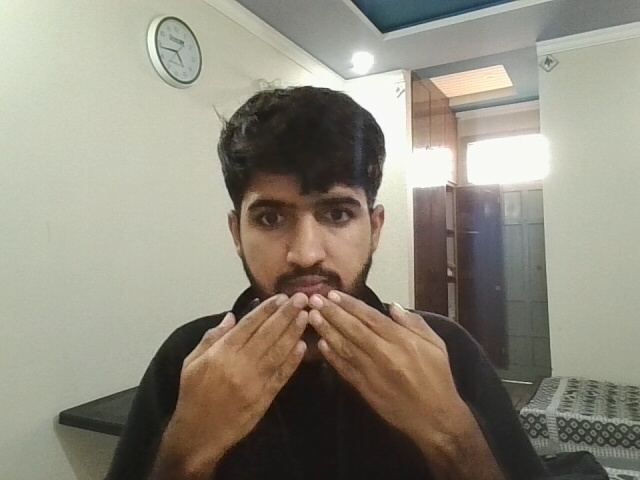Thanks: (158, 292, 503, 448)
